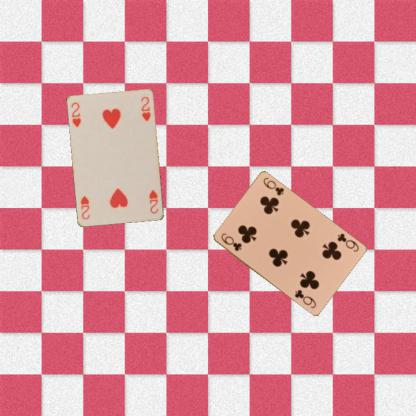2h: (69, 100, 82, 129), (147, 188, 159, 215)
6c: (334, 231, 360, 253), (218, 230, 243, 252)
